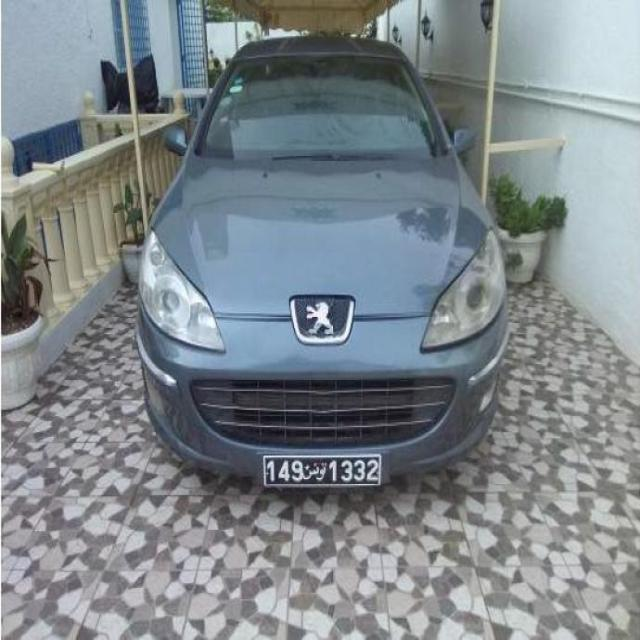LP: (260, 451, 385, 492)
